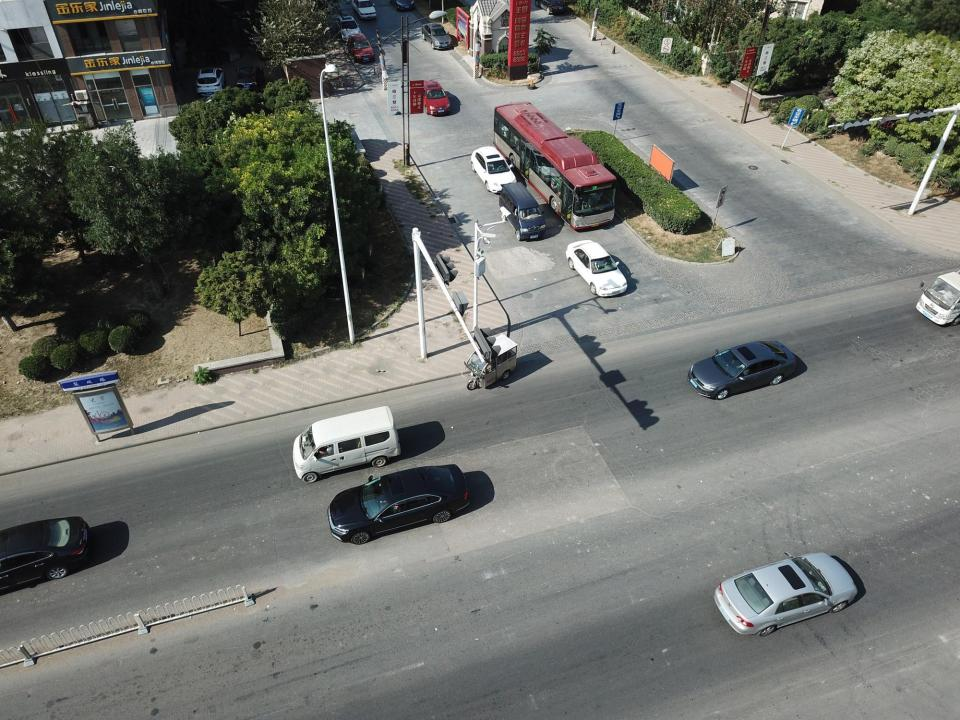bus: (493, 101, 618, 230)
car: (714, 552, 858, 636), (327, 463, 472, 544), (0, 515, 90, 594), (687, 341, 797, 400), (566, 240, 627, 297), (471, 146, 516, 193), (423, 80, 451, 115), (347, 33, 375, 63), (196, 68, 225, 96), (235, 66, 265, 93), (422, 23, 452, 49), (335, 16, 361, 41), (351, 0, 377, 19), (390, 0, 414, 11)
truck: (916, 270, 960, 326)
van: (292, 406, 401, 483), (499, 181, 546, 241)
